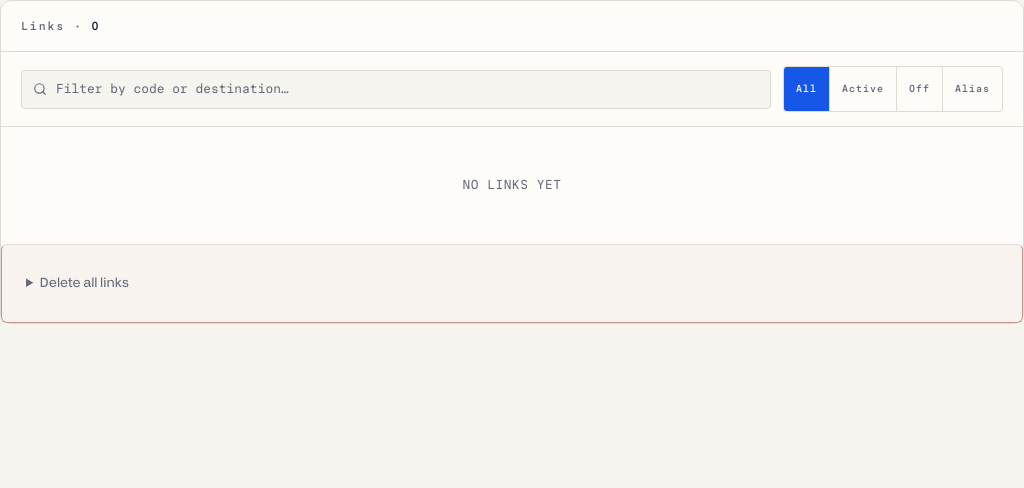
Test case: admin delete-all flow › reports failure, permits retry, and refreshes summary and table only after success
Click the heading "Delete all links".
click(84, 283)  # box 40,274 -> 129,292
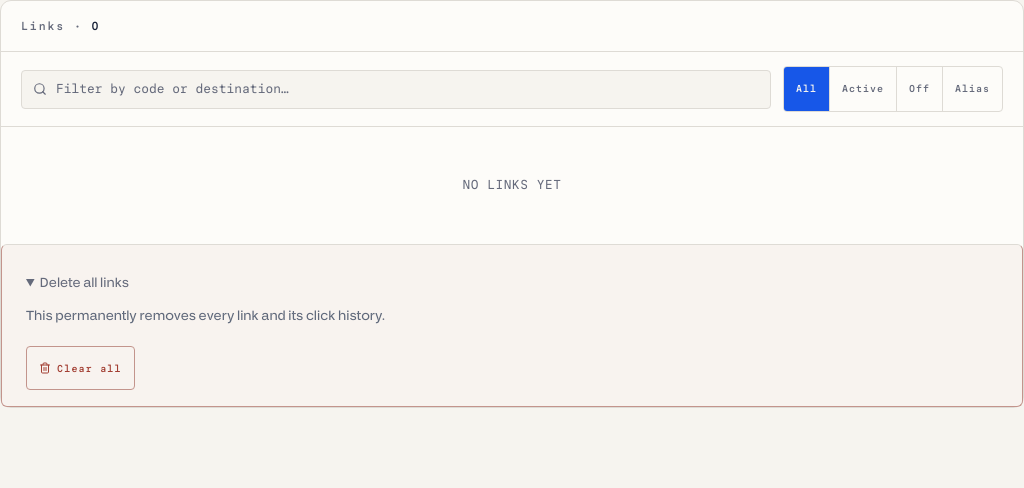
Click the button "Clear all".
click(80, 368)  # box 26,346 -> 135,390
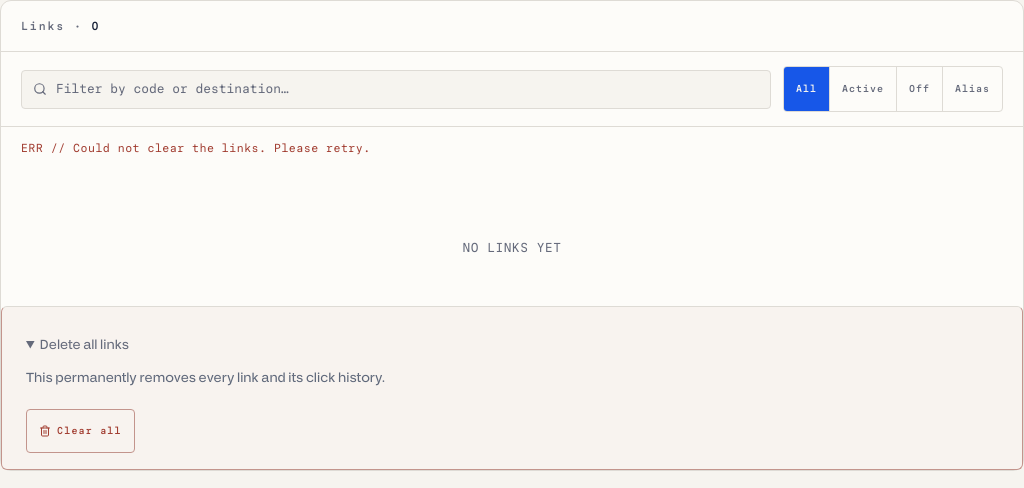
Expected: the button "Clear all" is enabled
Expected: the text "ERR // Could not clear the links. Please retry." is shown, 21,141 -> 371,155
Click the button "Clear all".
click(80, 431)  # box 26,409 -> 135,453
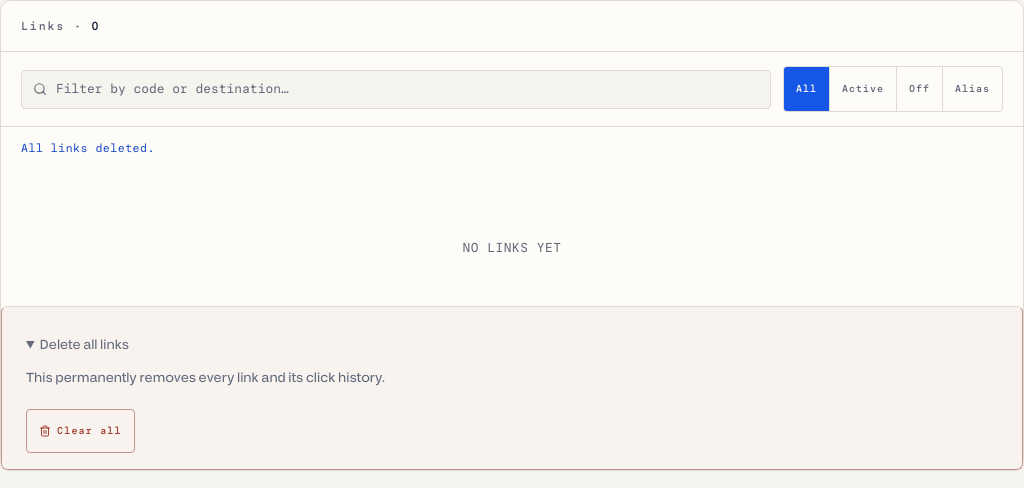
Expected: the text "All links deleted." is shown, 21,141 -> 155,155
